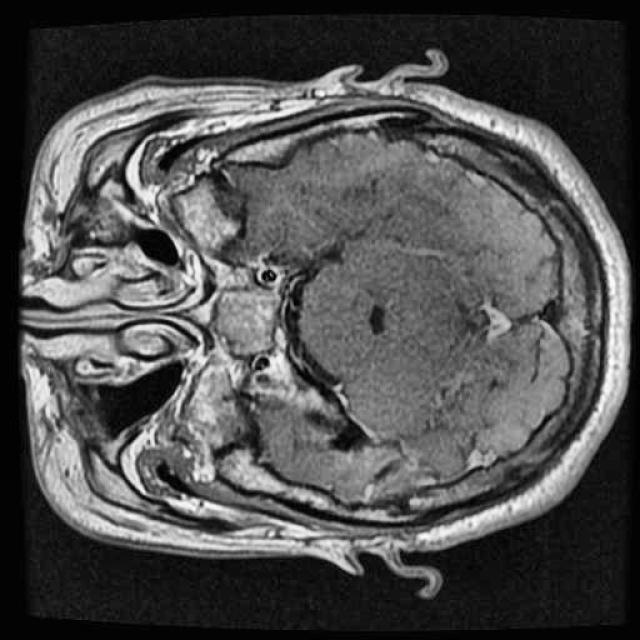Tumor: (199, 275, 292, 371)
